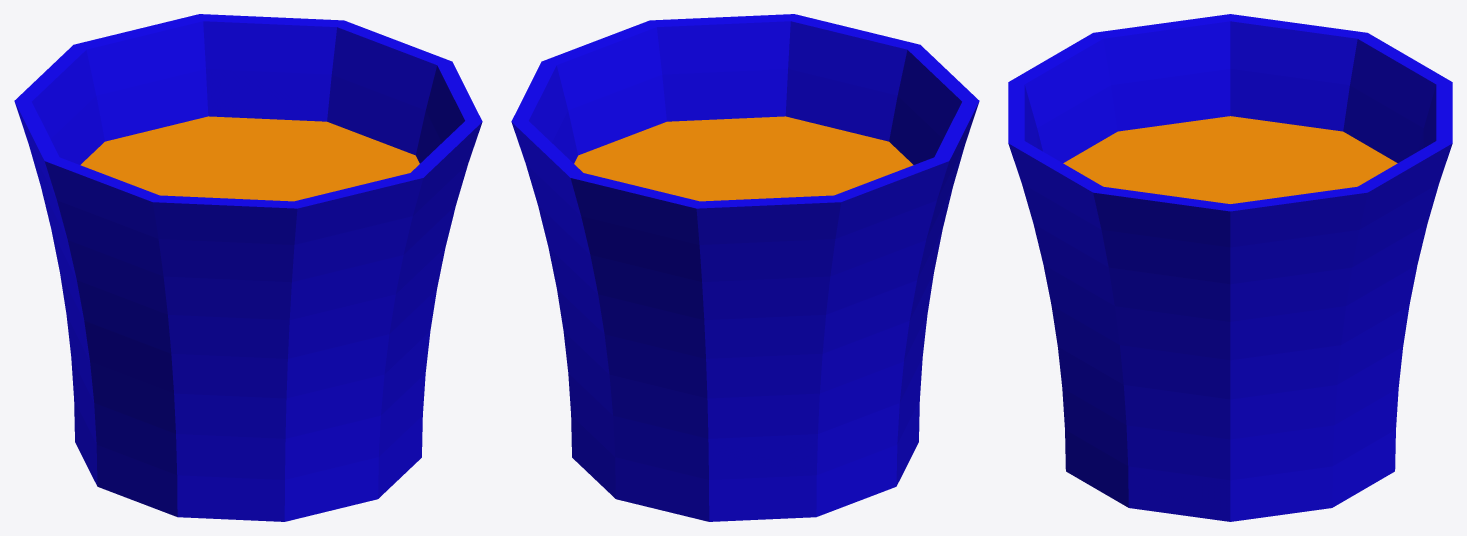
The model's file is стак2.fbx.
3 renders of one model, left to right at view 1: azimuth 30°, elevation 25°; view 2: azimuth 150°, elevation 25°; view 3: azimuth 270°, elevation 25°, orthographic.
Visible parts, largest first — view 1: Труба, Шапка_2_2; view 2: Труба, Шапка_2_2; view 3: Труба, Шапка_2_2.
Boxes of the visible parts, x1,y1,x2,y2 form: Труба: [14, 14, 482, 521]; Шапка_2_2: [80, 116, 419, 201]; Труба: [511, 14, 979, 521]; Шапка_2_2: [574, 116, 913, 201]; Труба: [1008, 14, 1452, 521]; Шапка_2_2: [1063, 116, 1397, 203].
Bounding box in the file's own units: 14.58 × 11.57 × 13.87.
